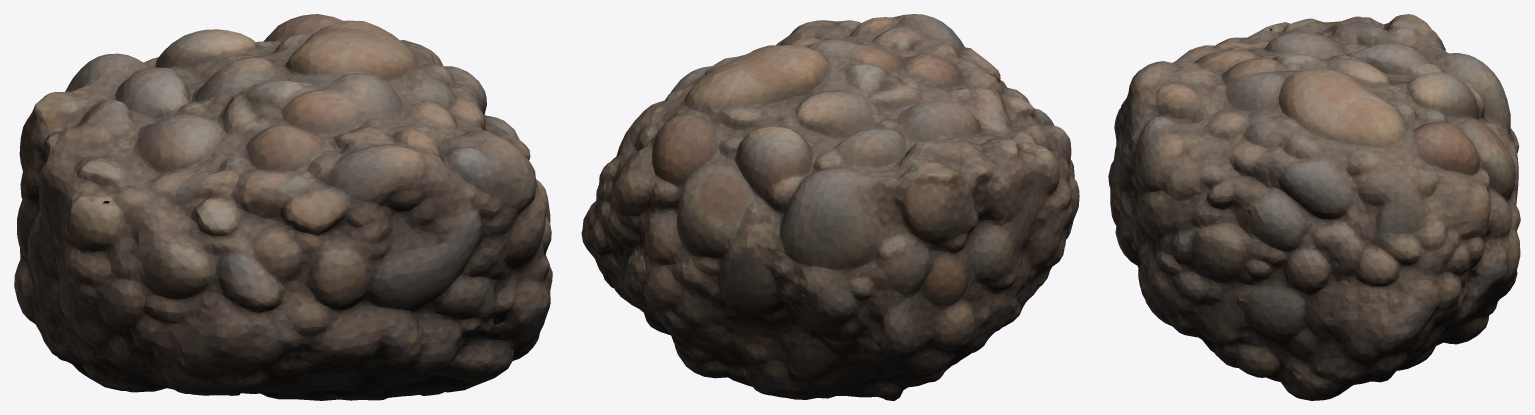
3 views of the same model, side by side, from view 1: azimuth 30°, elevation 25°; view 2: azimuth 150°, elevation 25°; view 3: azimuth 270°, elevation 25° (orthographic). The views are drawn at different scales.
Parts seen in each view (by area): view 1: world; view 2: world; view 3: world.
Part boxes in pixels (bbox=[...]): world: bbox=[14, 14, 552, 400]; world: bbox=[581, 14, 1079, 400]; world: bbox=[1108, 14, 1520, 400].
Size of the model in its own units: 0.8034 by 0.5639 by 0.7177.
1 material, 1 textured.
